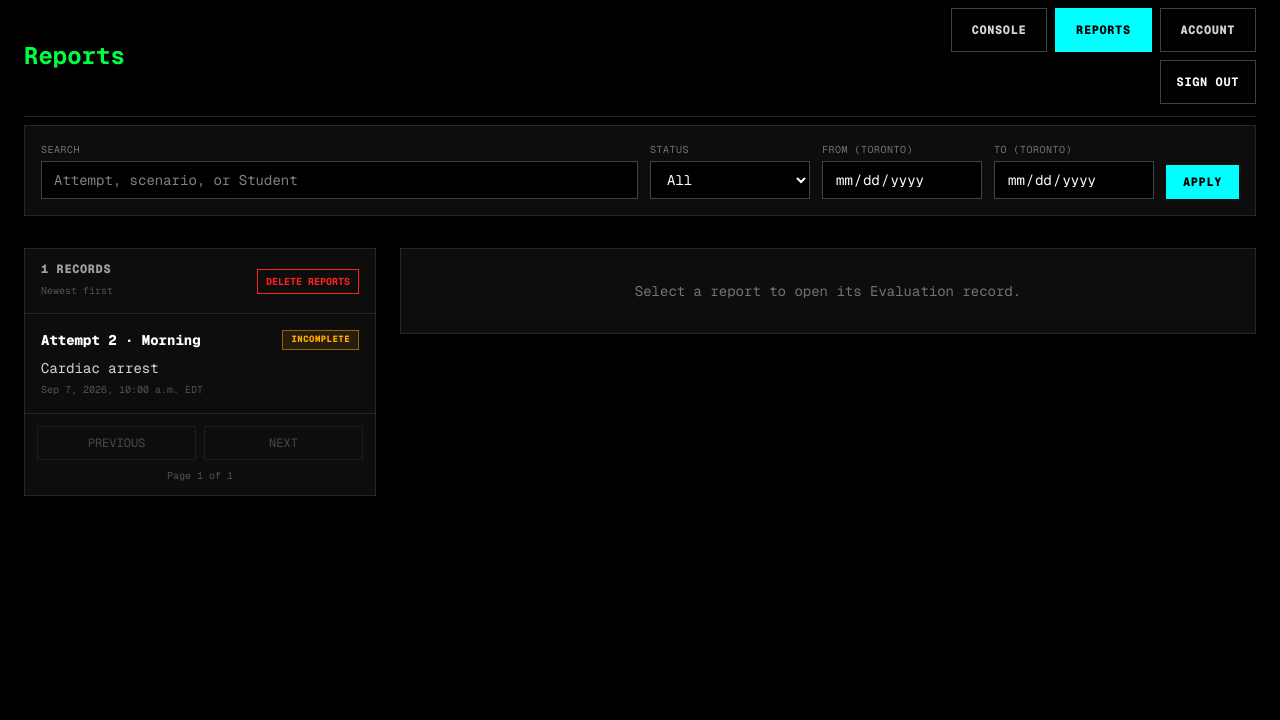
Test: ReportsPage › preserves delete mode and selection when atomic deletion fails, then clears on cancel
The width and height of the screenshot is (1280, 720).
Click the button "Delete reports" at (308, 281), box [257,268,359,294]
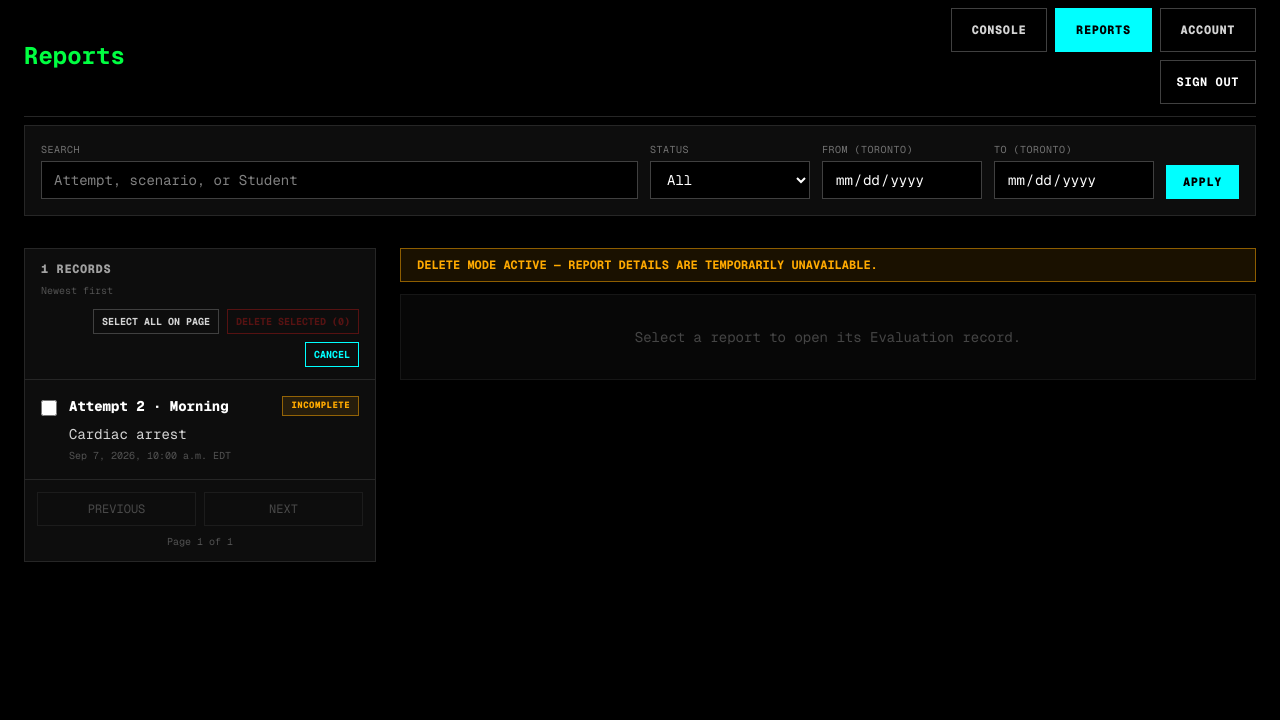
Click the checkbox named "Select Attempt 2 · Morning — Cardiac arrest" at (49, 408), box [41,400,57,416]
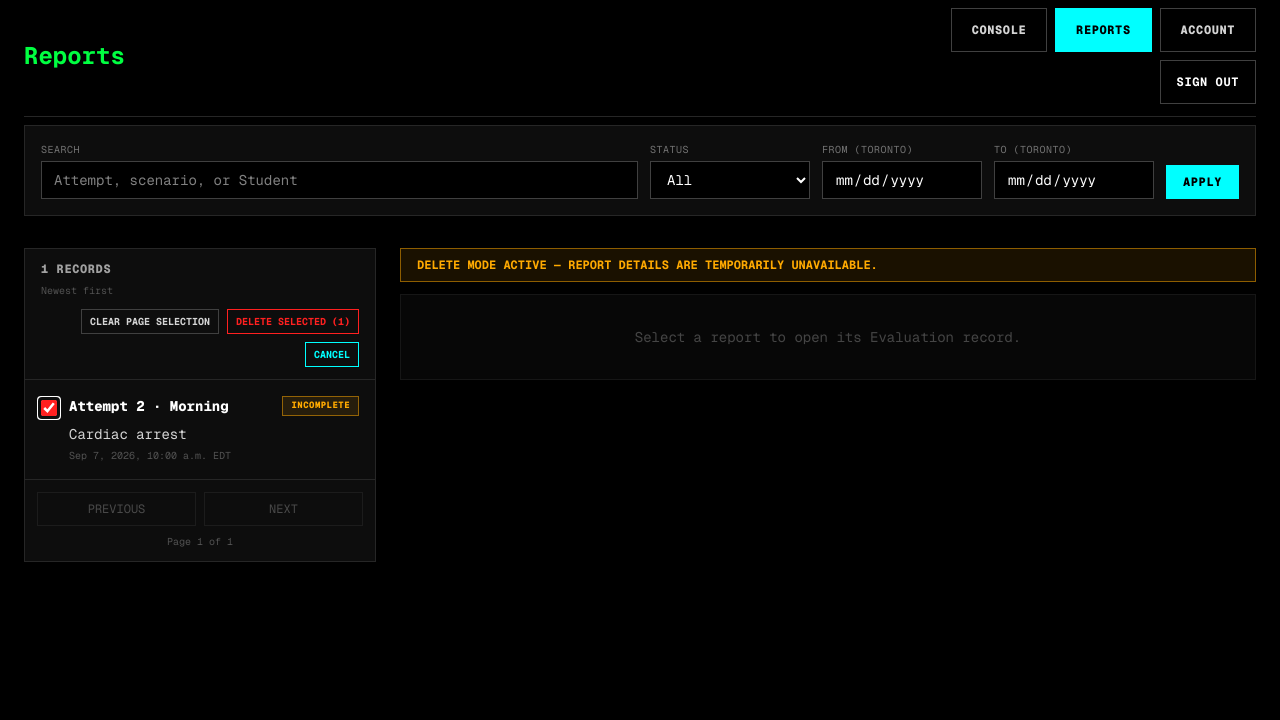
Click the button "Delete selected (1)" at (293, 322), box [227,309,359,334]
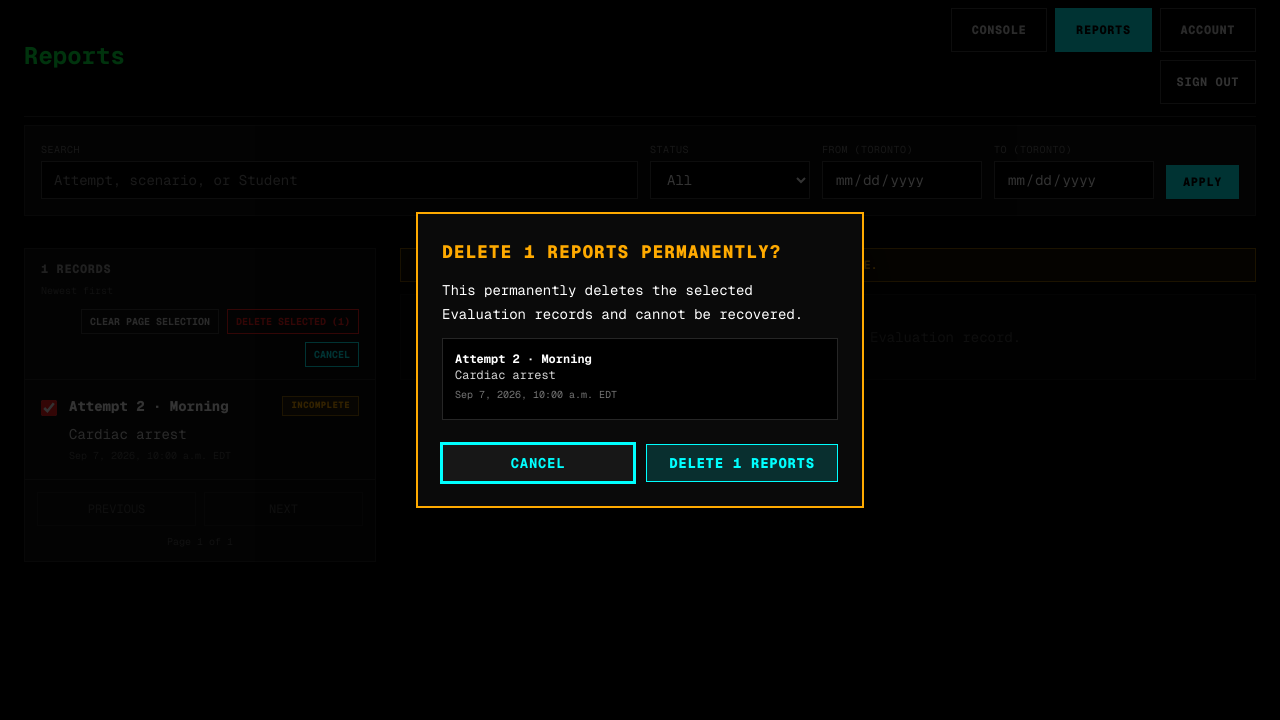
Click the button "Delete 1 reports" at (742, 463), box [646,444,838,482]
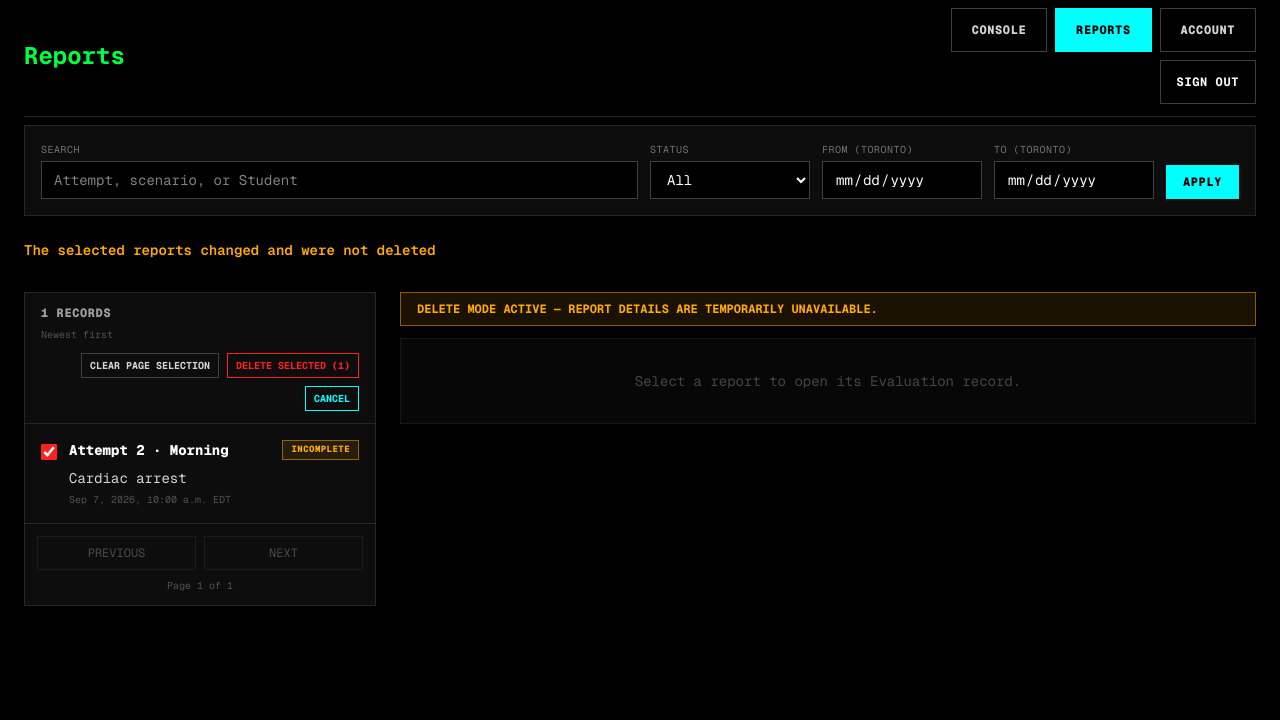
Result: the checkbox named "Select Attempt 2 · Morning — Cardiac arrest" is checked at [41,444,57,460]
Result: the button "Cancel" is shown
Result: the message shows "not deleted" at [24,241,436,259]
Click the button "Cancel" at (332, 398), box [305,386,359,411]
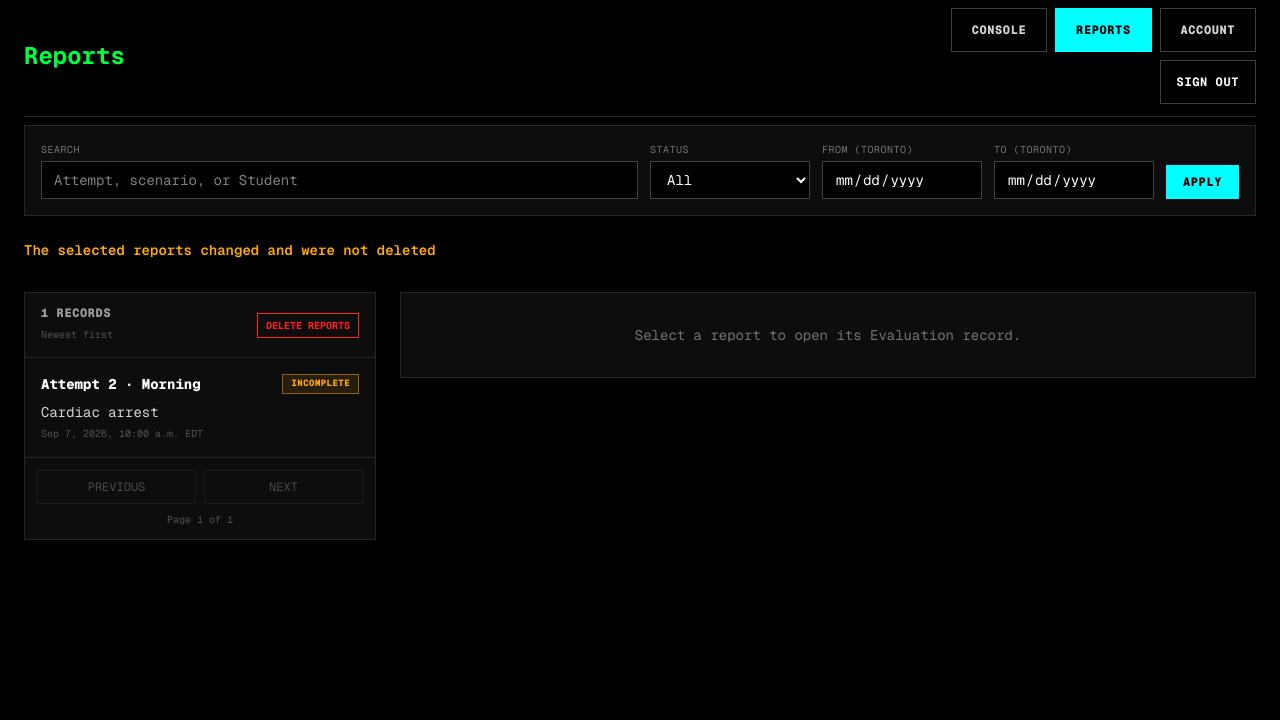
Result: the checkbox is gone
